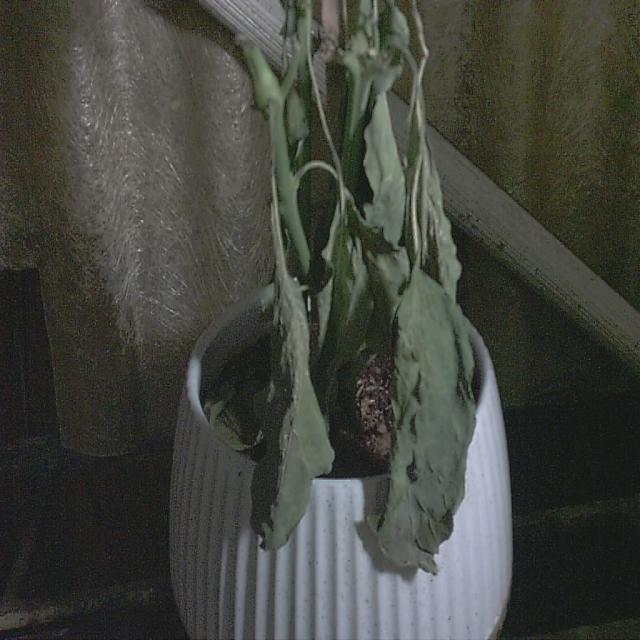Leaf: (363, 264, 476, 578), (249, 256, 334, 552)
